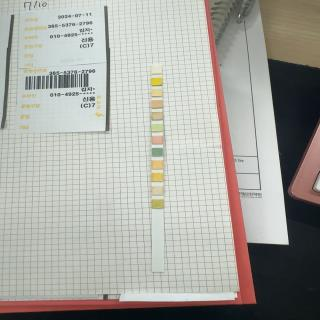mark: (152, 172, 164, 182), (152, 160, 163, 169), (152, 200, 164, 208), (151, 124, 163, 132), (150, 66, 162, 74), (152, 186, 162, 195), (152, 136, 163, 144), (152, 100, 163, 108), (152, 148, 162, 156), (152, 112, 162, 120), (152, 78, 162, 85), (152, 90, 162, 96)
